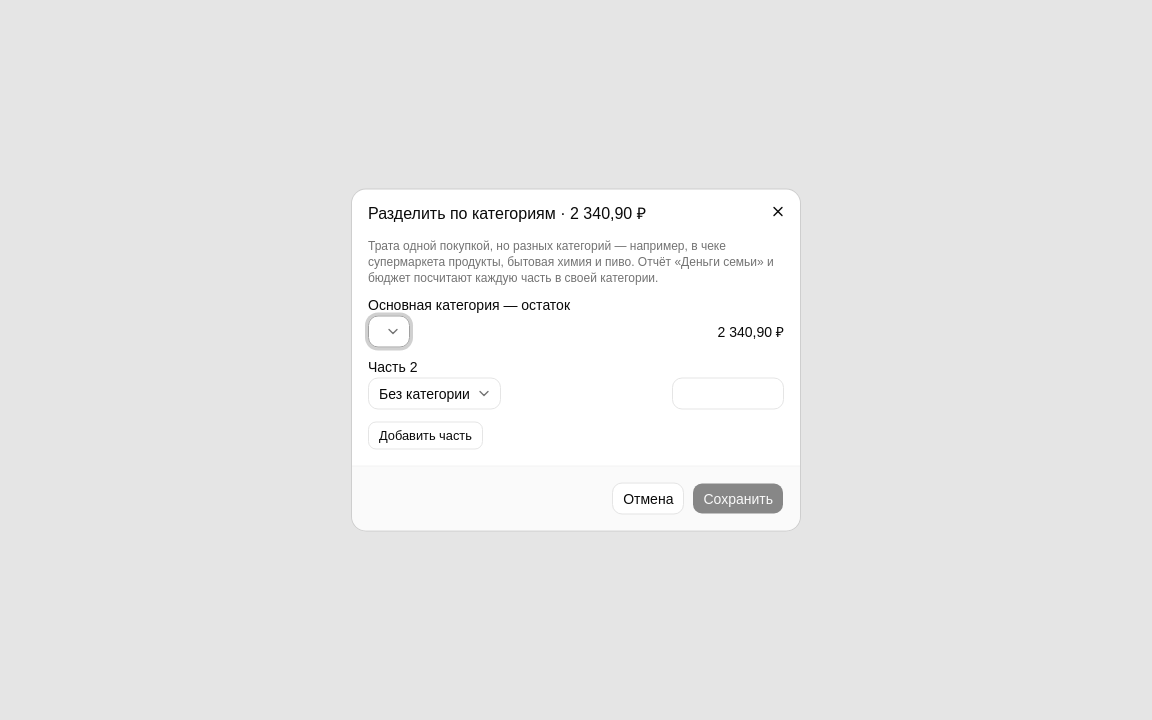
Scenario: PartsDialog › refuses parts larger than the row
This screenshot has width=1152, height=720.
In the field named "Сумма части 2": [728, 394] box [672,378,784,410], type "3000"
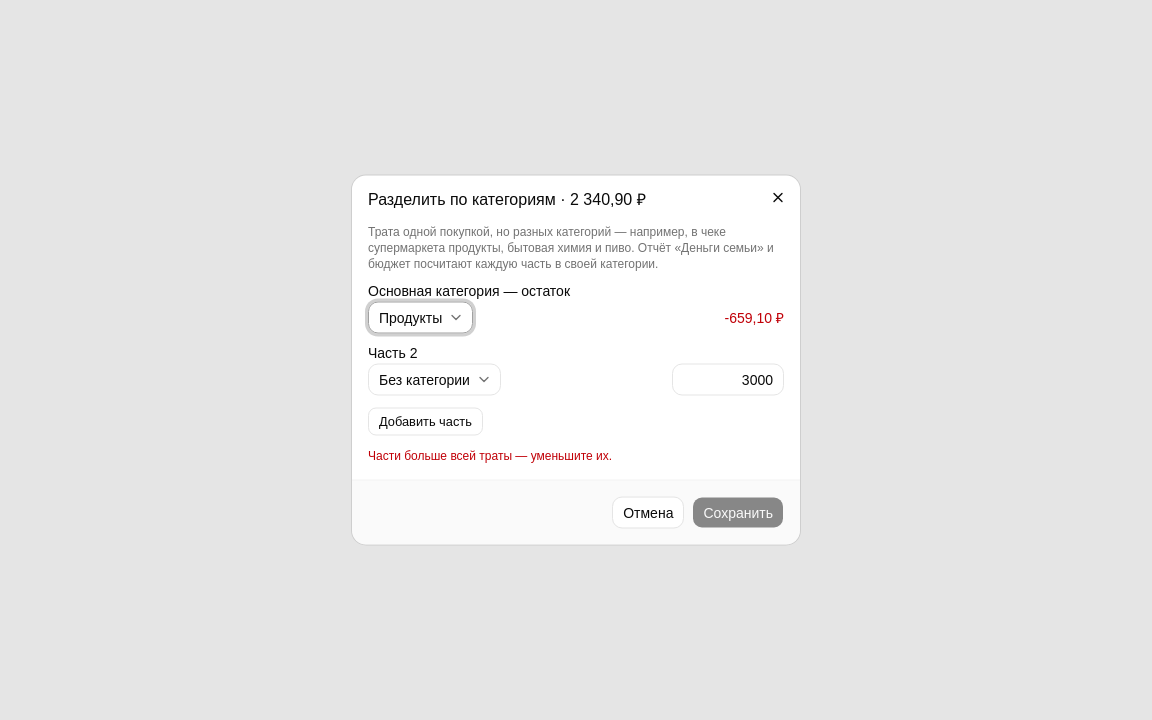
Expected: the button "Сохранить" is disabled, [692,496,784,528]
Expected: the text "Части больше всей траты — уменьшите их." is shown, [368,448,612,462]
